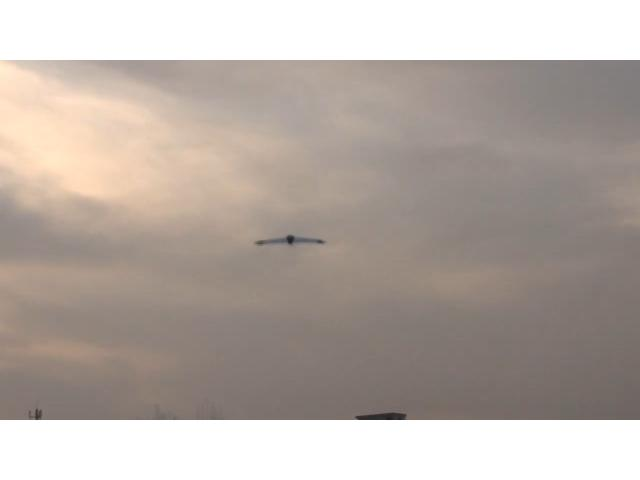Anti-Drone: (254, 232, 324, 245)
